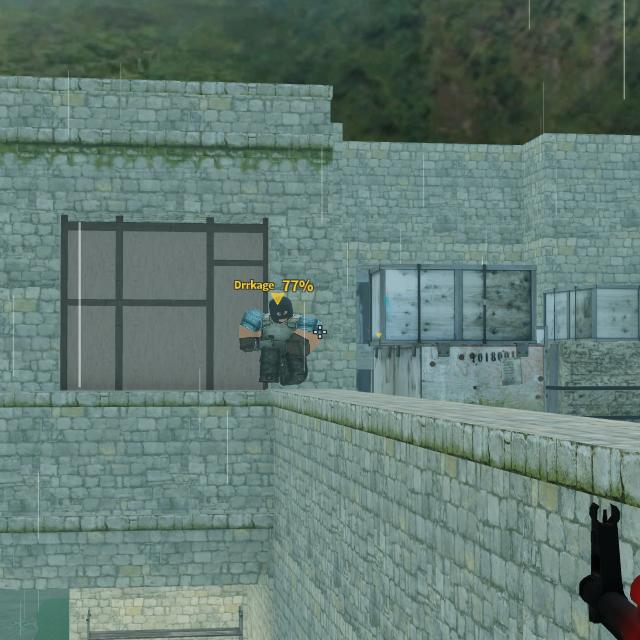Head: (268, 298, 293, 321)
Player: (241, 297, 320, 384)
